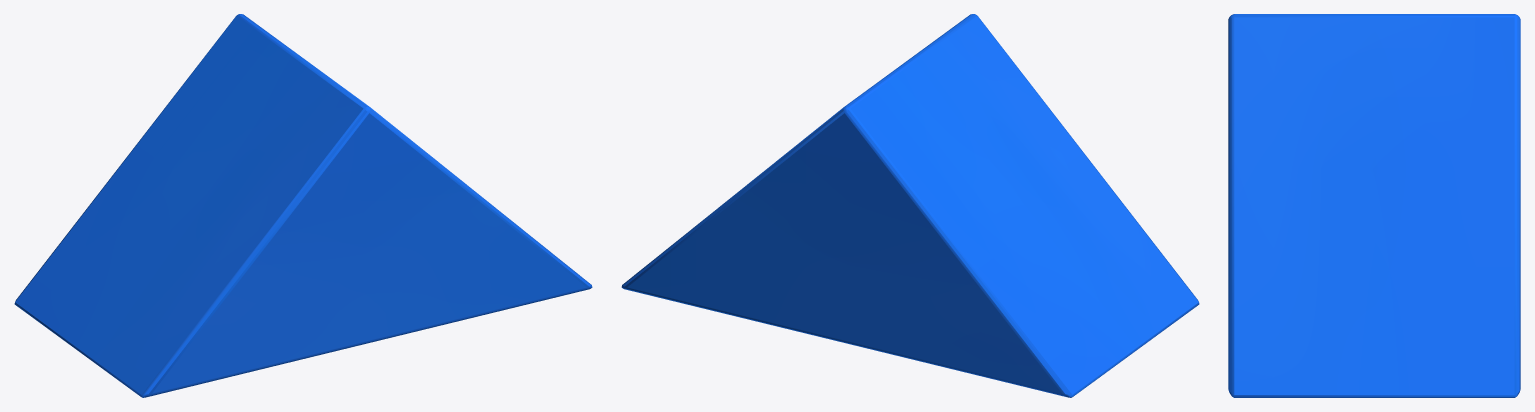
Rendered from 2SidedWedgeBlue.fbx.
3 views of the same model, side by side, from view 1: azimuth 30°, elevation 25°; view 2: azimuth 150°, elevation 25°; view 3: azimuth 270°, elevation 25° (orthographic). The views are drawn at different scales.
Parts seen in each view (by area): view 1: Wedge.001; view 2: Wedge.001; view 3: Wedge.001.
Part boxes in pixels (x1,y1,x2,y2): Wedge.001: (14,14,592,397); Wedge.001: (621,14,1199,397); Wedge.001: (1228,14,1520,397).
Bounding box in the file's own units: 3.95 × 1.98 × 2.
